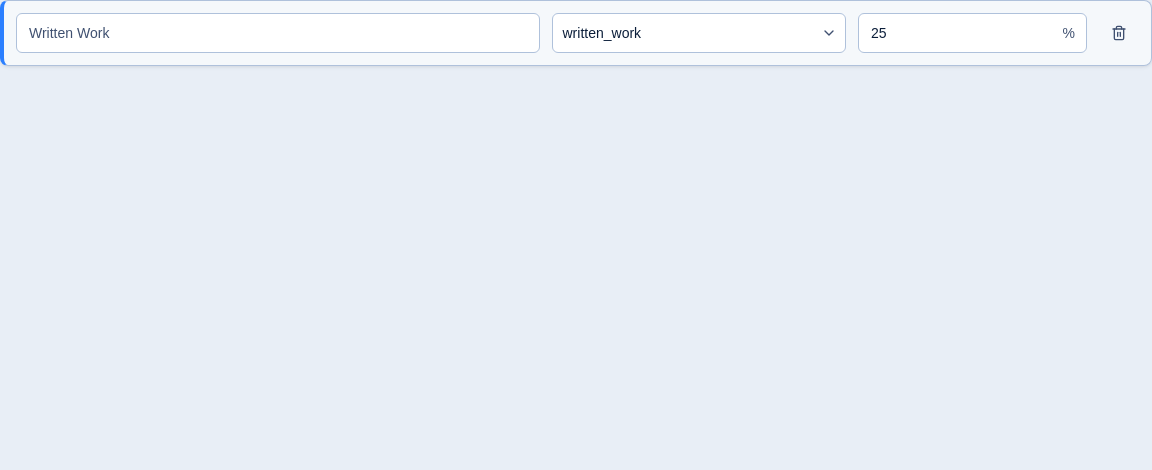
Test: GradingSchemeComponentRow — category name auto-fill (TICK-ASSESS-004) › fills Name with the canonical label when a type is selected
expect the field named "Category name" is empty: met, box [16, 13, 540, 53]
Click the dropdown at [602, 33], box [552, 13, 846, 53]
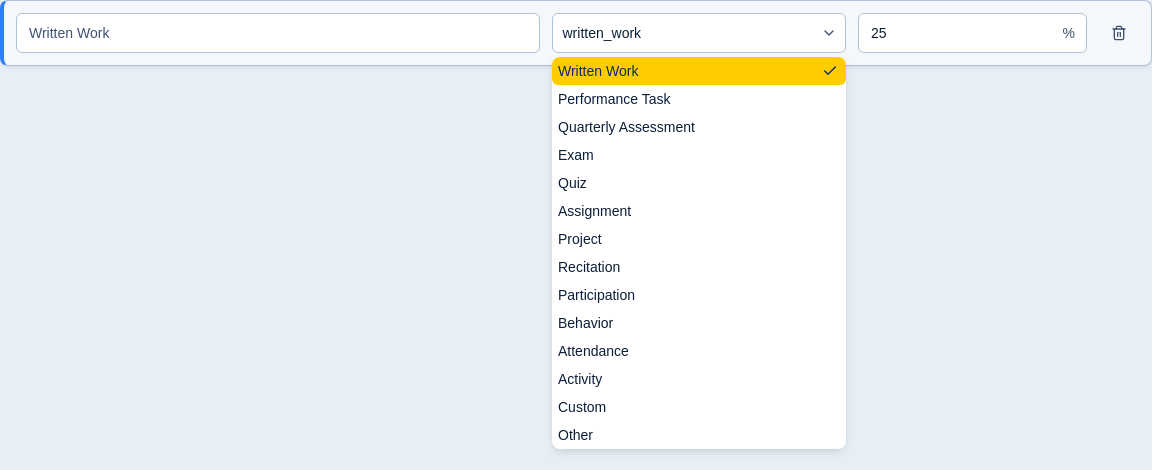
Click the option "Behavior" at [586, 323], box [558, 315, 613, 331]
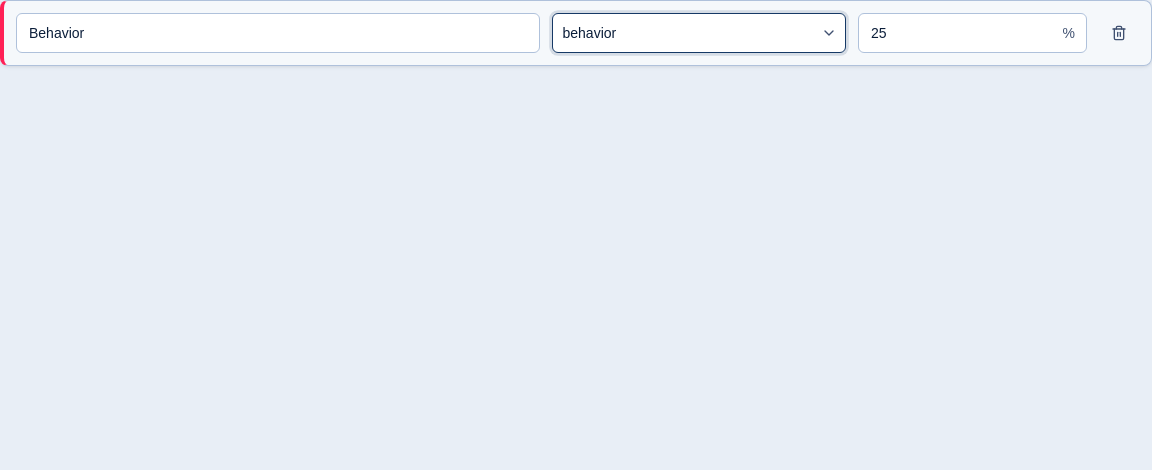
expect the field named "Category name" holds "Behavior": met, box [16, 13, 540, 53]
